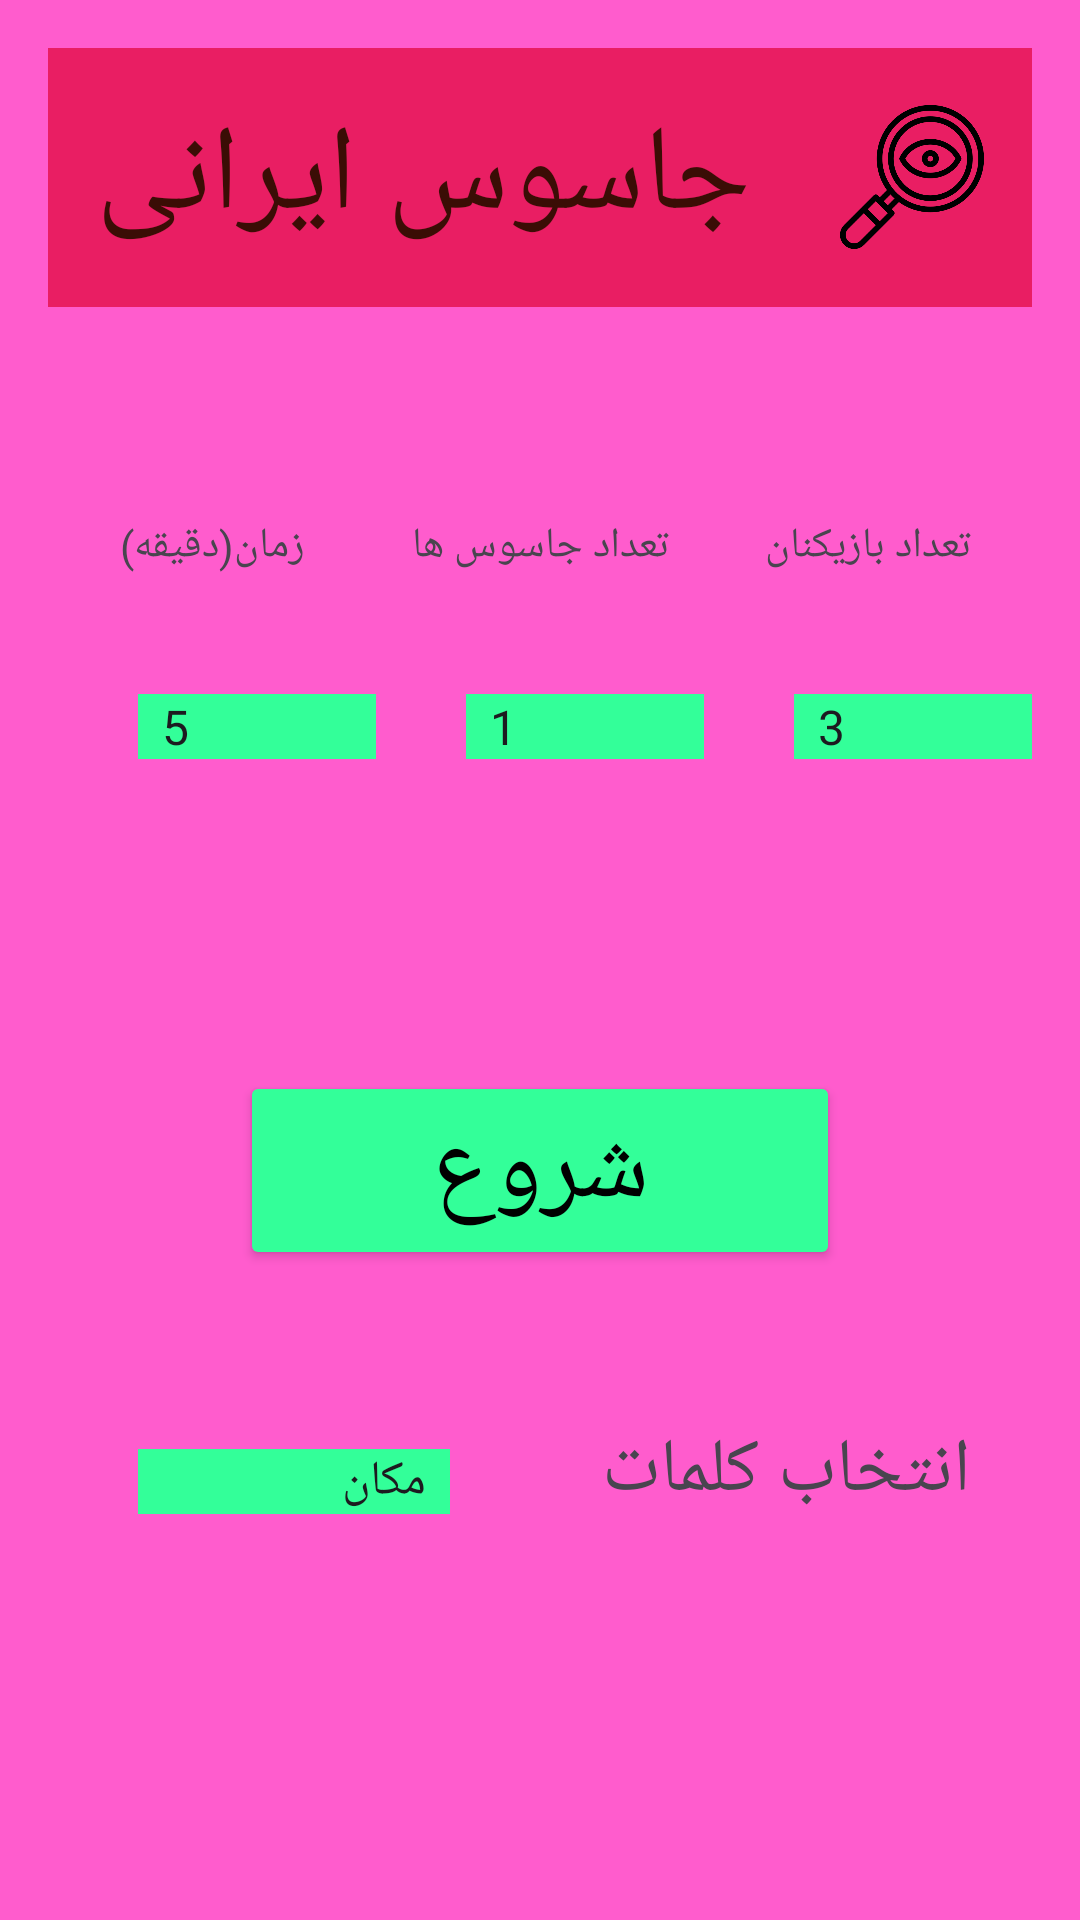

Icon bounding boxes for this 1080w x 1920h phone screenshot, format (x1, y1, x2, y2):
spy: (840, 105, 984, 249)
